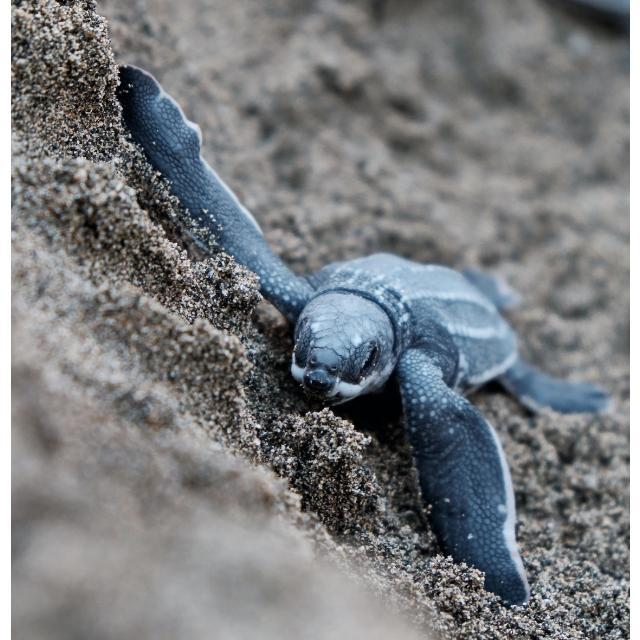turtle: (111, 66, 607, 606)
